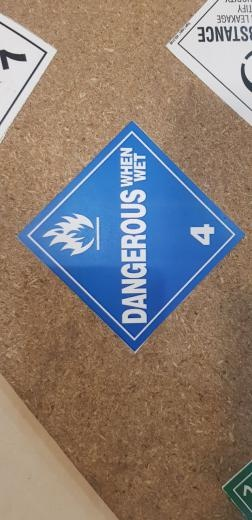Dangerous when wet: (18, 121, 244, 353)
Infectious substance: (165, 1, 252, 125)
